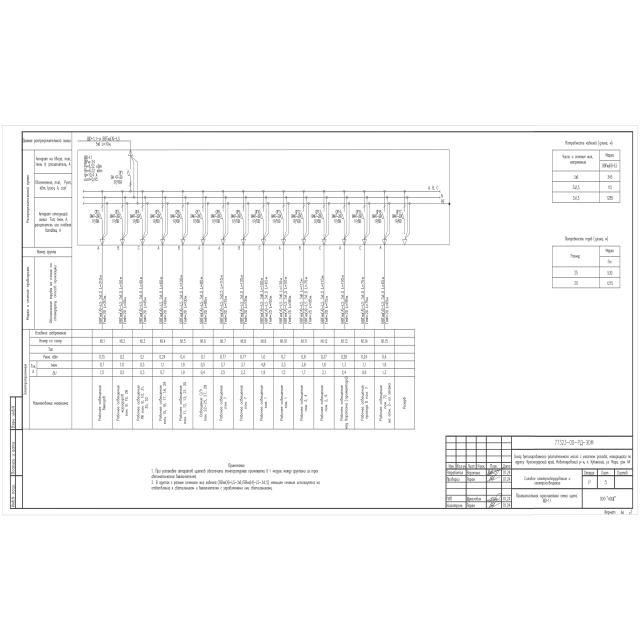-: (110, 175, 124, 185), (352, 213, 362, 224), (84, 154, 95, 164), (110, 214, 120, 224), (312, 214, 322, 224), (332, 214, 342, 224), (230, 214, 240, 224), (191, 214, 201, 224), (250, 214, 260, 224), (392, 214, 402, 224), (89, 214, 99, 224), (271, 214, 281, 224), (291, 214, 301, 224), (372, 214, 382, 224), (210, 214, 220, 224), (170, 214, 181, 223), (130, 214, 140, 223), (150, 214, 160, 223)
QF: (98, 209, 104, 220), (158, 209, 164, 220), (320, 209, 326, 220), (380, 210, 386, 220), (119, 210, 124, 221), (199, 210, 204, 221), (340, 209, 345, 220), (401, 210, 406, 220), (360, 210, 365, 220), (300, 210, 305, 220), (280, 210, 285, 220), (140, 210, 144, 221), (260, 210, 264, 220), (240, 210, 244, 220), (220, 210, 224, 220), (180, 210, 184, 220), (127, 167, 131, 177)
